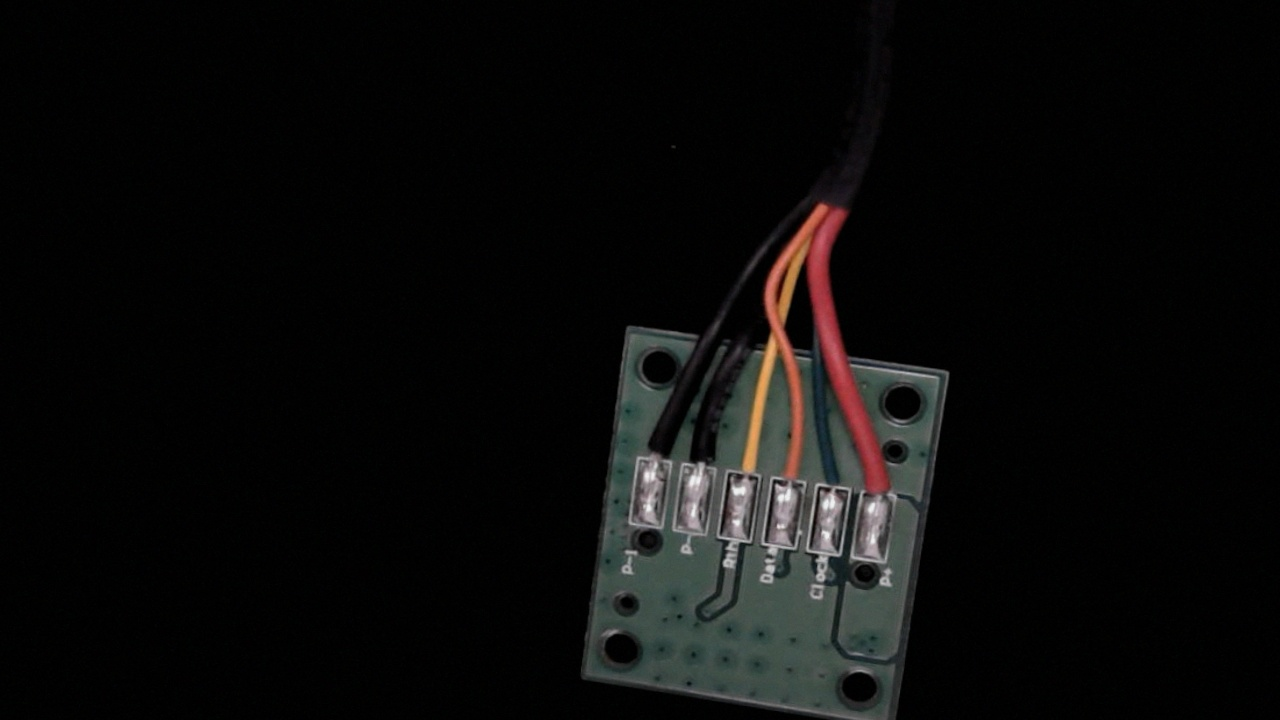Black: (677, 410, 731, 484)
Black1: (632, 399, 682, 478)
Green: (810, 435, 858, 509)
Orange: (768, 417, 817, 501)
Red: (858, 432, 910, 515)
Yellow: (723, 418, 771, 494)
